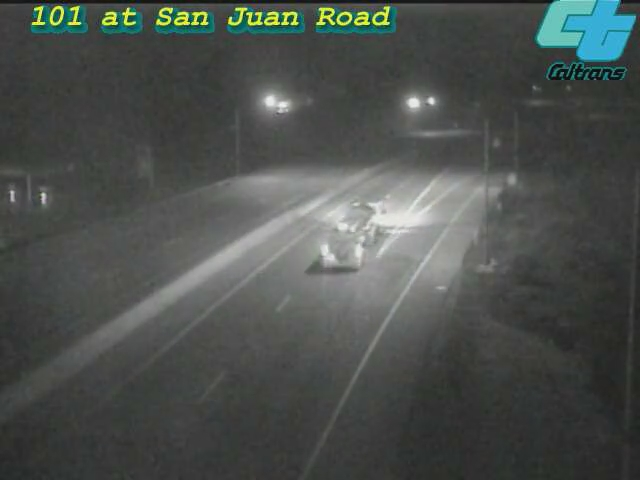vehicle: (317, 188, 397, 268)
